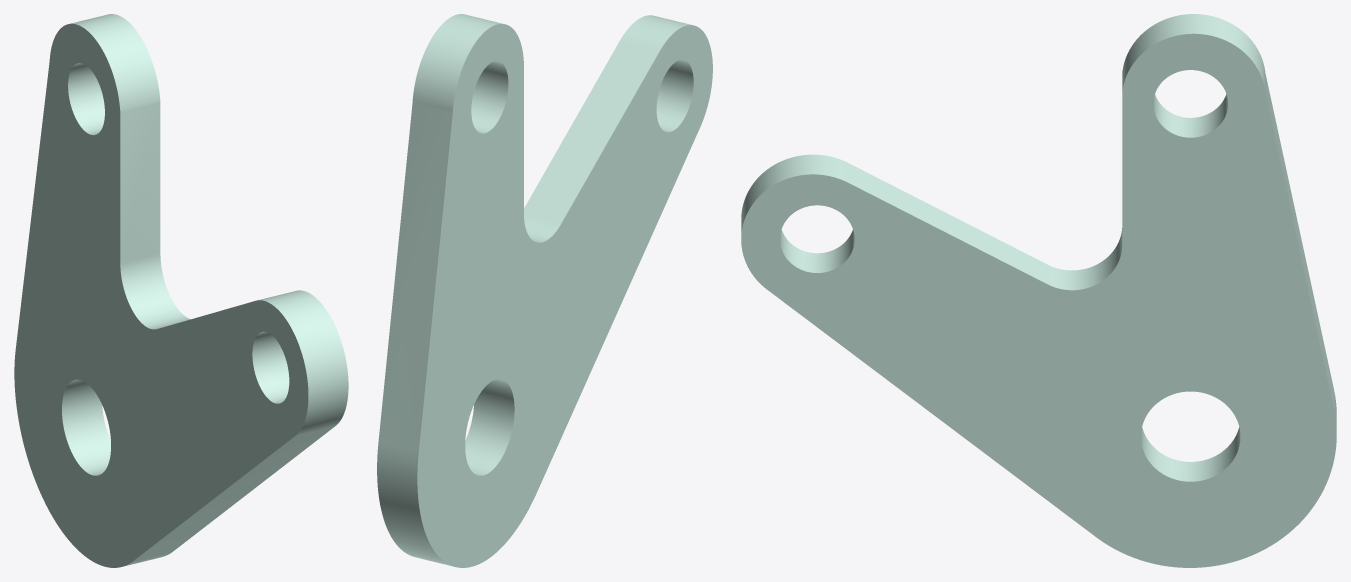
3 renders of one model, left to right at view 1: azimuth 30°, elevation 25°; view 2: azimuth 150°, elevation 25°; view 3: azimuth 270°, elevation 25°, orthographic.
Visible parts, largest first — view 1: Renderer Node; view 2: Renderer Node; view 3: Renderer Node.
Boxes of the visible parts, x1=… form: Renderer Node: x1=14, y1=14, x2=348, y2=567; Renderer Node: x1=377, y1=14, x2=712, y2=567; Renderer Node: x1=741, y1=14, x2=1336, y2=567.
Size of the model in its own units: 0.0781 by 0.9814 by 0.9917.
